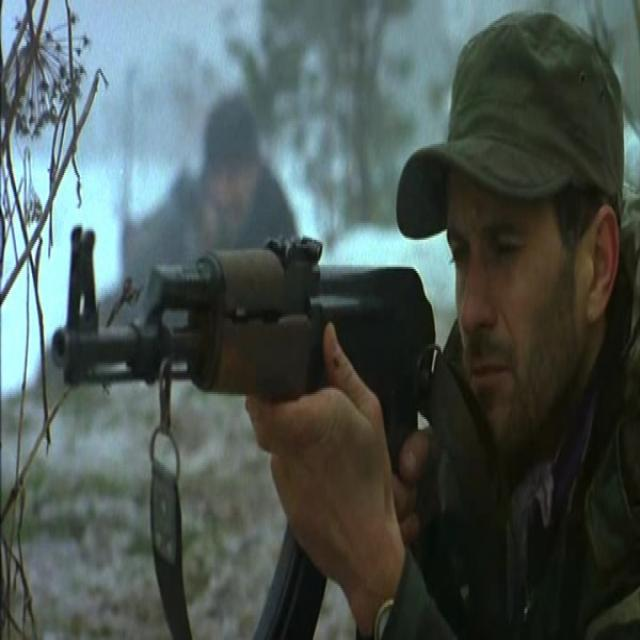rifle: (46, 207, 436, 446)
